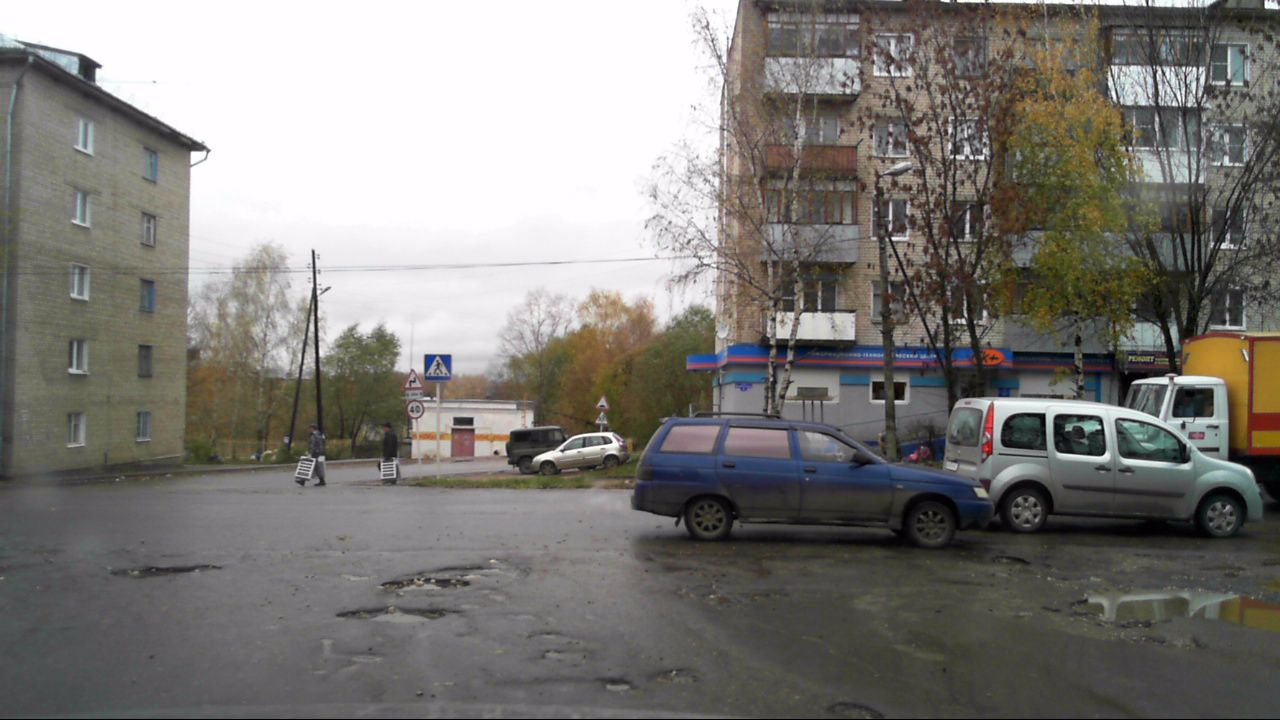speed_warning_40: (404, 398, 428, 420)
